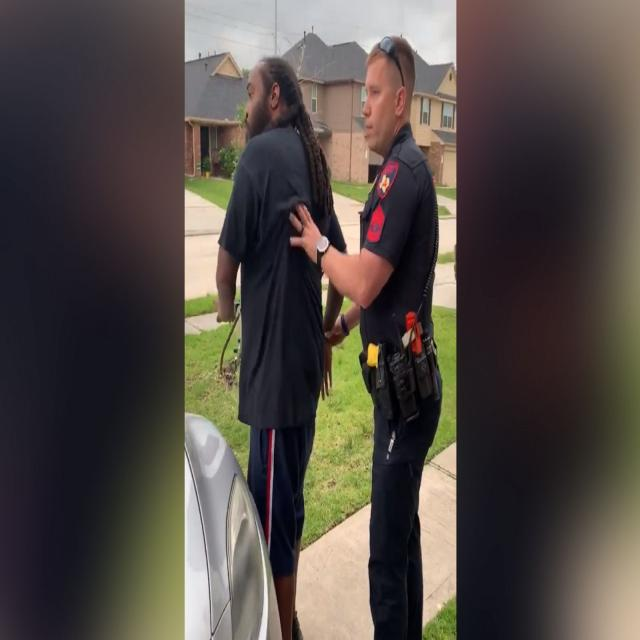police: (301, 6, 444, 640)
